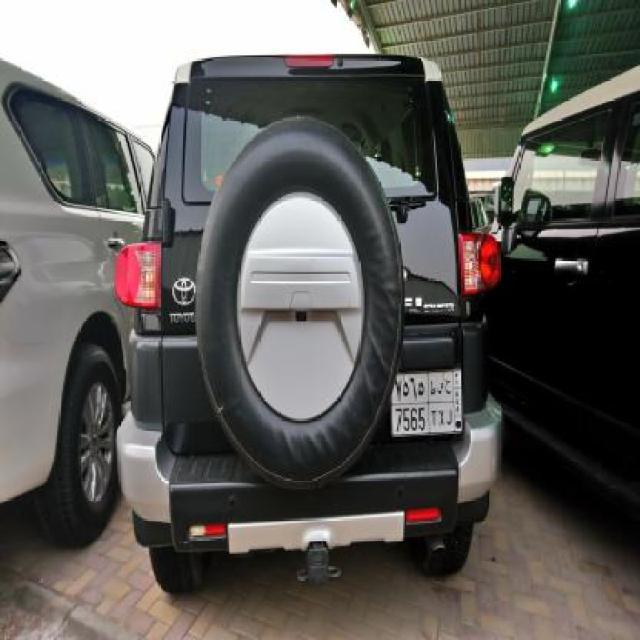license_plate: (388, 366, 463, 439)
